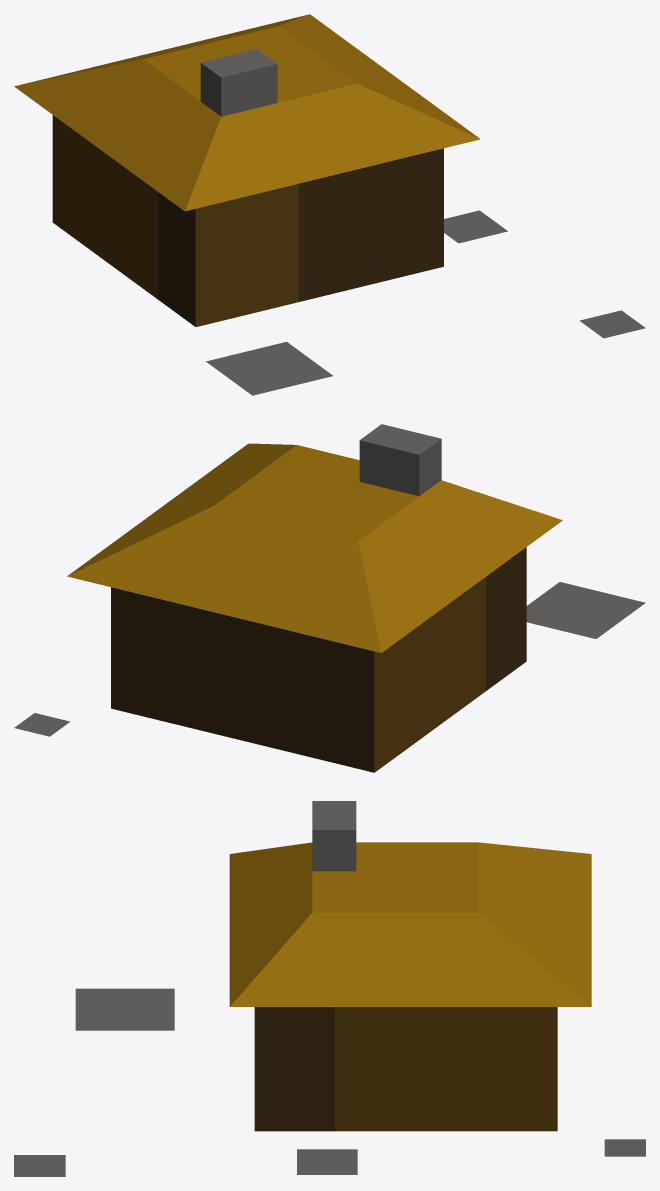
The model's file is house1.glb.
3 renders of one model, top to bottom at view 1: azimuth 30°, elevation 25°; view 2: azimuth 150°, elevation 25°; view 3: azimuth 270°, elevation 25°, orthographic. The views are drawn at different scales.
Visible parts, largest first — view 1: Cube; view 2: Cube; view 3: Cube.
Boxes of the visible parts, left/top/right/bottom form: Cube: left=14, top=14, right=645, bottom=395; Cube: left=14, top=424, right=645, bottom=772; Cube: left=14, top=801, right=645, bottom=1176.
Bounding box in the file's own units: 11.27 × 6.41 × 15.99.
